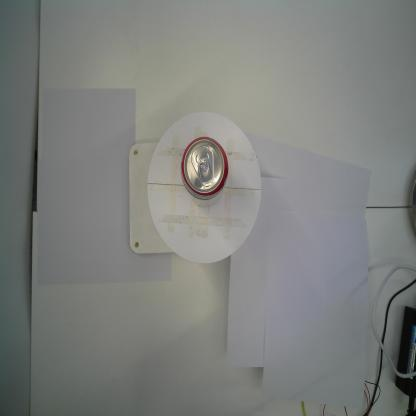Alcohol: (180, 136, 228, 201)
